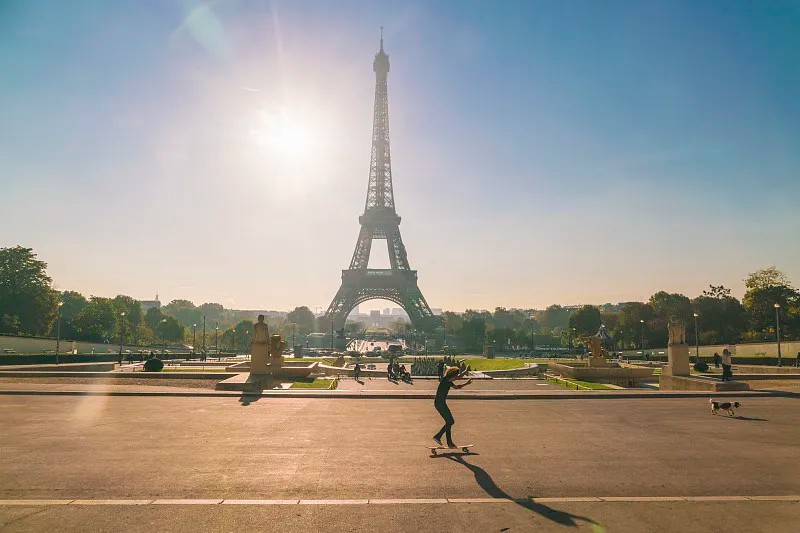Eiffel: (316, 27, 438, 336)
